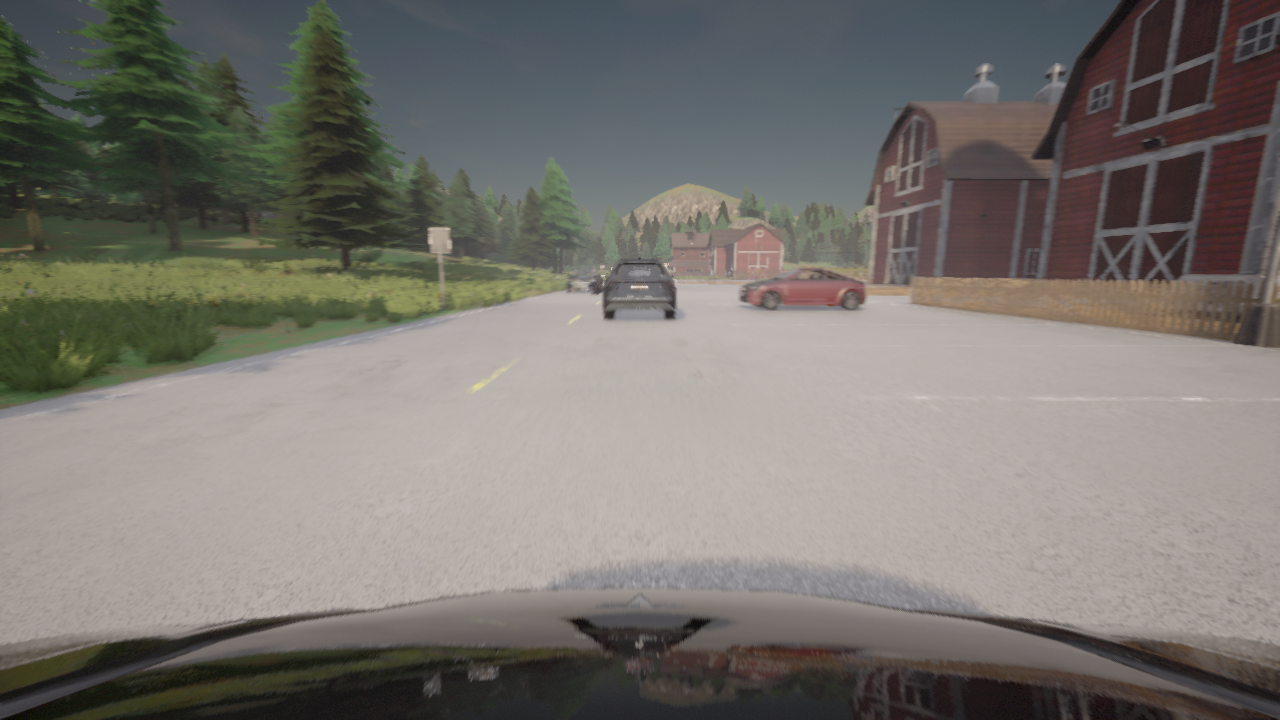cyclist: (0, 588, 1279, 719), (738, 268, 865, 310), (603, 258, 675, 319), (566, 267, 601, 293)
